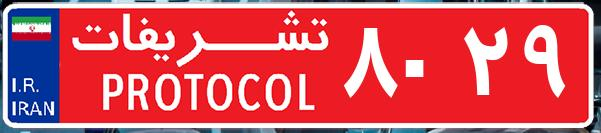0: (400, 20, 460, 115)
2: (460, 20, 520, 115)
8: (340, 20, 400, 115)
9: (520, 20, 580, 115)
تشریفات: (60, 8, 340, 125)
